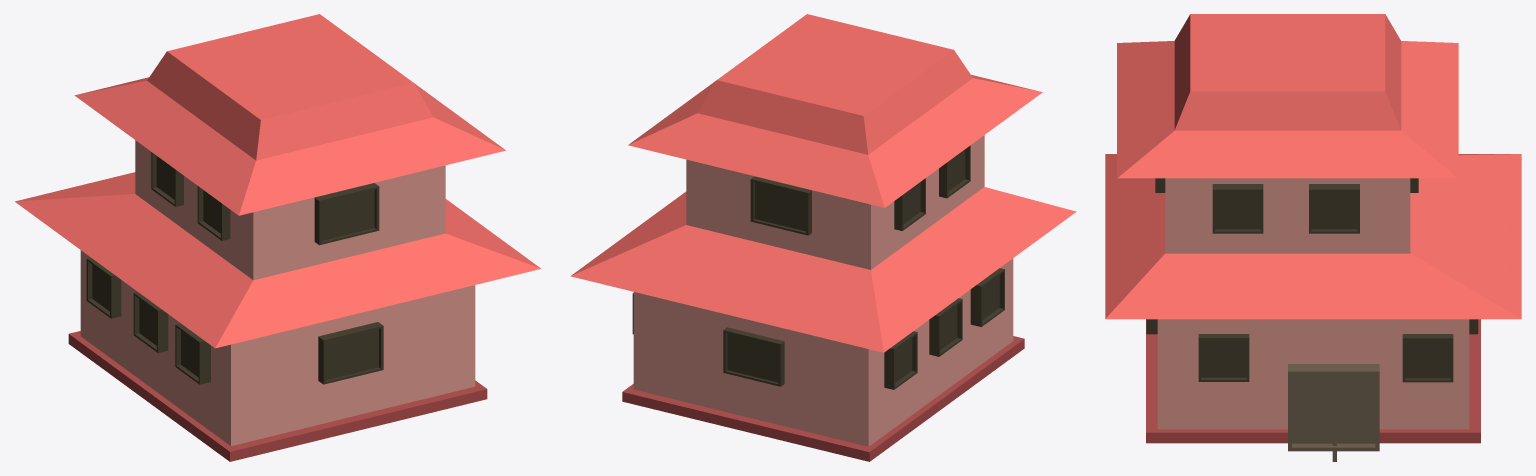
Rendered from House_2.fbx.
The picture shows the model from 3 angles, left to right: view 1: azimuth 30°, elevation 25°; view 2: azimuth 150°, elevation 25°; view 3: azimuth 270°, elevation 25°; orthographic projection. The views are drawn at different scales.
Parts seen in each view (by area): view 1: Cube, Cube.009, Cube.015; view 2: Cube, Cube.009, Cube.015; view 3: Cube, Cube.009, Cube.001, Cube.015.
Part boxes in pixels (left/top/right/bottom): Cube: left=15, top=14, right=540, bottom=445; Cube.009: left=86, top=152, right=383, bottom=384; Cube.015: left=68, top=331, right=487, bottom=461; Cube: left=570, top=14, right=1076, bottom=446; Cube.009: left=632, top=145, right=1004, bottom=389; Cube.015: left=622, top=336, right=1024, bottom=461; Cube: left=1105, top=14, right=1521, bottom=429; Cube.009: left=1146, top=178, right=1478, bottom=382; Cube.001: left=1288, top=364, right=1379, bottom=461; Cube.015: left=1146, top=319, right=1480, bottom=443.
Bounding box in the file's own units: 485 × 467 × 516.
